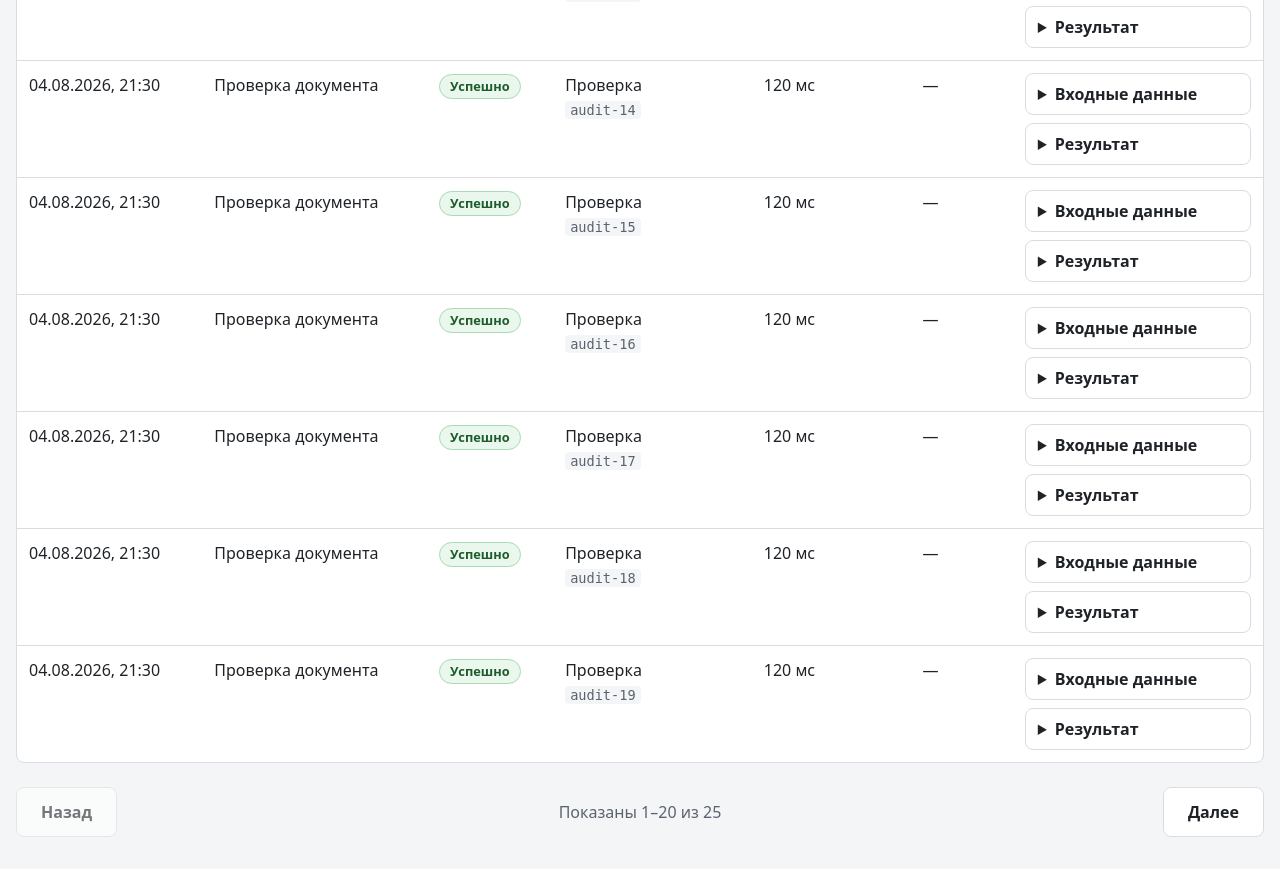
Scenario: AuditJournalPage › out-of-range: total=0 -> offset сбрасывается в 0, без бесконечных запросов, нормальное пустое состояние
(page scrolled)
Click the button "Далее".
click(1213, 812)  # box [1163, 787, 1264, 837]
(page scrolled)
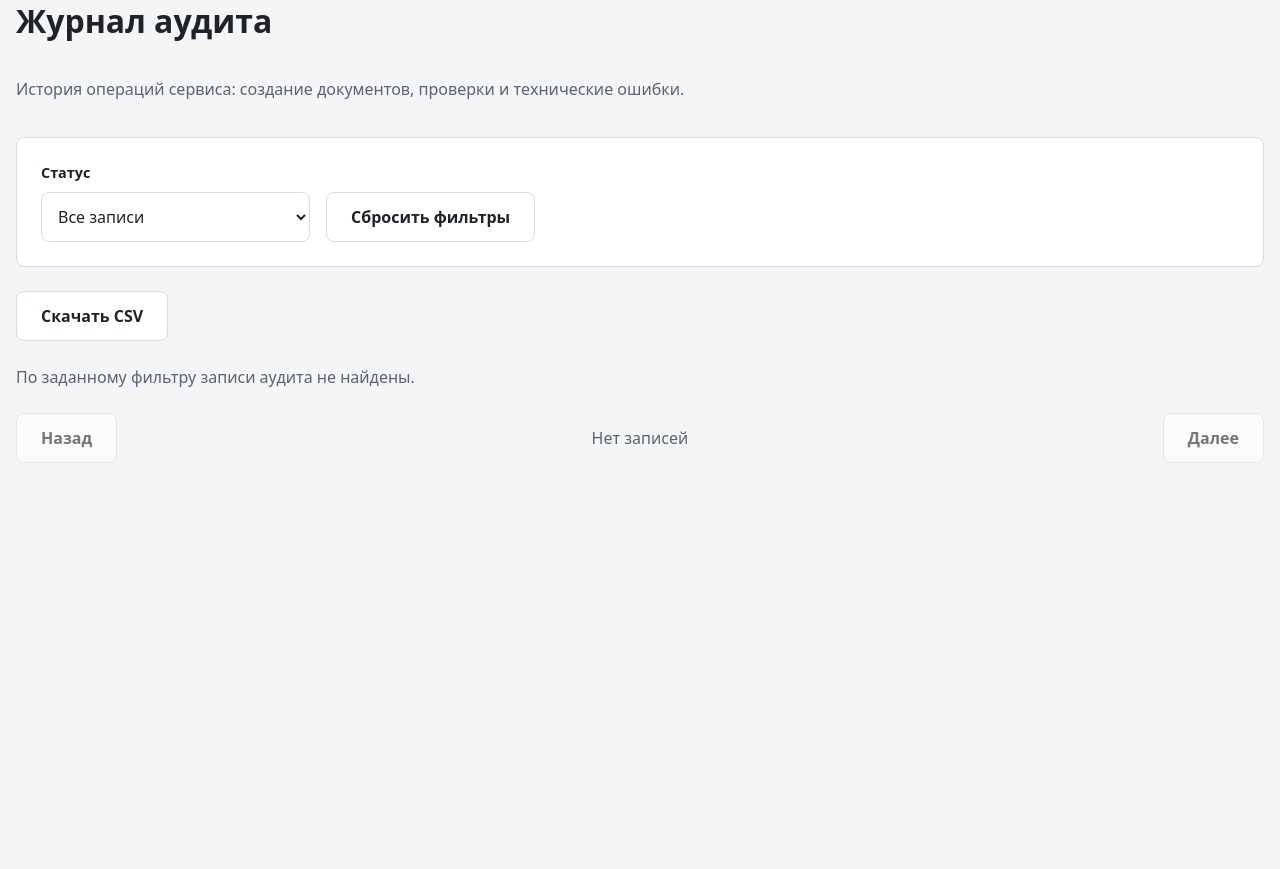
Expected: the text "По заданному фильтру записи аудита не найдены." is shown, [16, 366, 415, 388]
Expected: the text "Нет записей" is shown, [592, 426, 688, 450]
